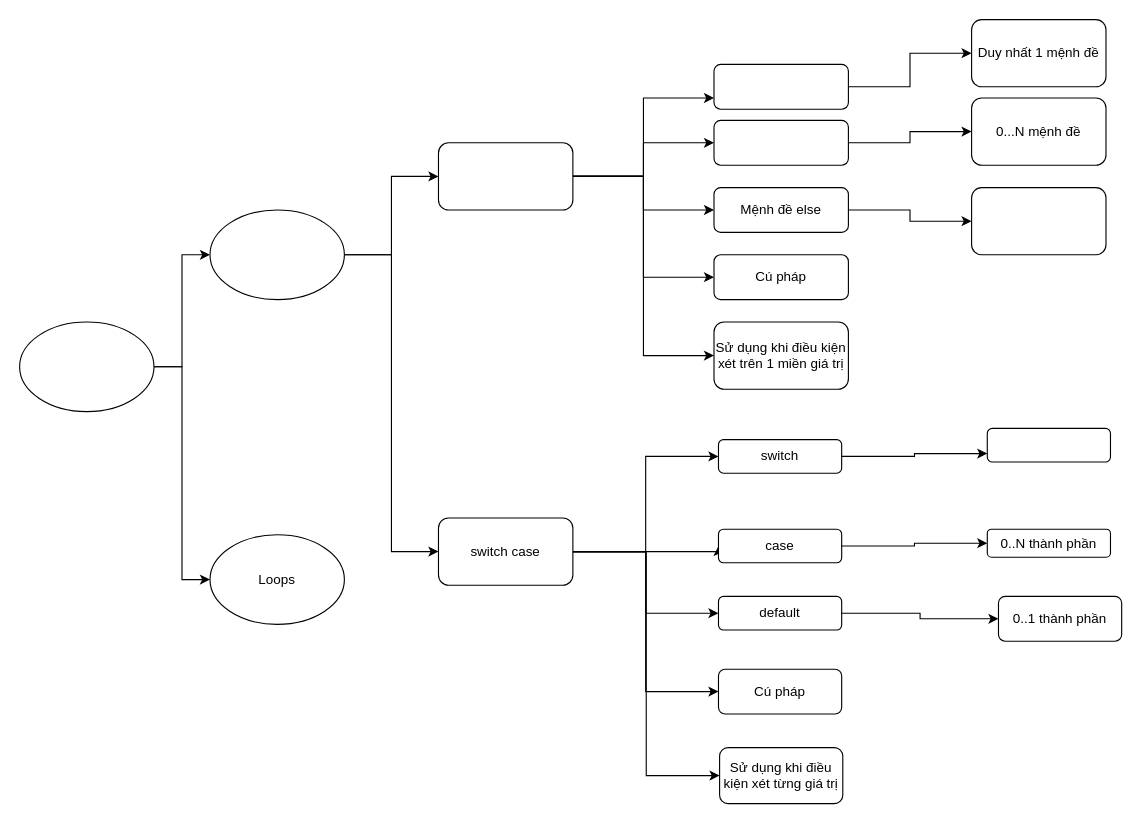
This 1141x823 diagram has some shape labels left out. Here are the shapes that lost their labels. From the top down, the box of each, then its label:
(713, 63, 848, 109): Mệnh đề if
(713, 119, 848, 165): Mệnh đề if else
(437, 142, 573, 210): if...else if..else
(970, 186, 1106, 255): 0 1 mệnh đề
(209, 209, 344, 300): Decision Marking
(18, 321, 154, 412): Control Statement
(986, 427, 1110, 462): Duy nhất 1
